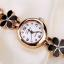watch: (17, 17, 51, 50)
